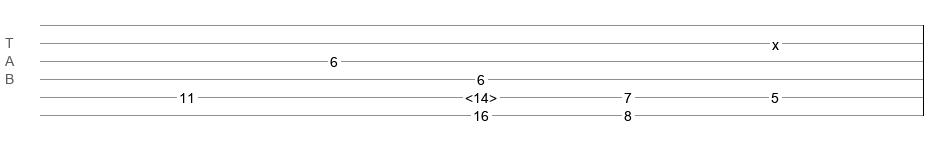11: (179, 90, 195, 100)
16: (473, 108, 489, 118)
5: (771, 90, 779, 100)
6: (330, 54, 338, 64), (477, 72, 485, 82)
7: (624, 90, 632, 100)
8: (624, 108, 632, 118)
harmonic: (465, 90, 497, 100)
x: (772, 37, 779, 45)
